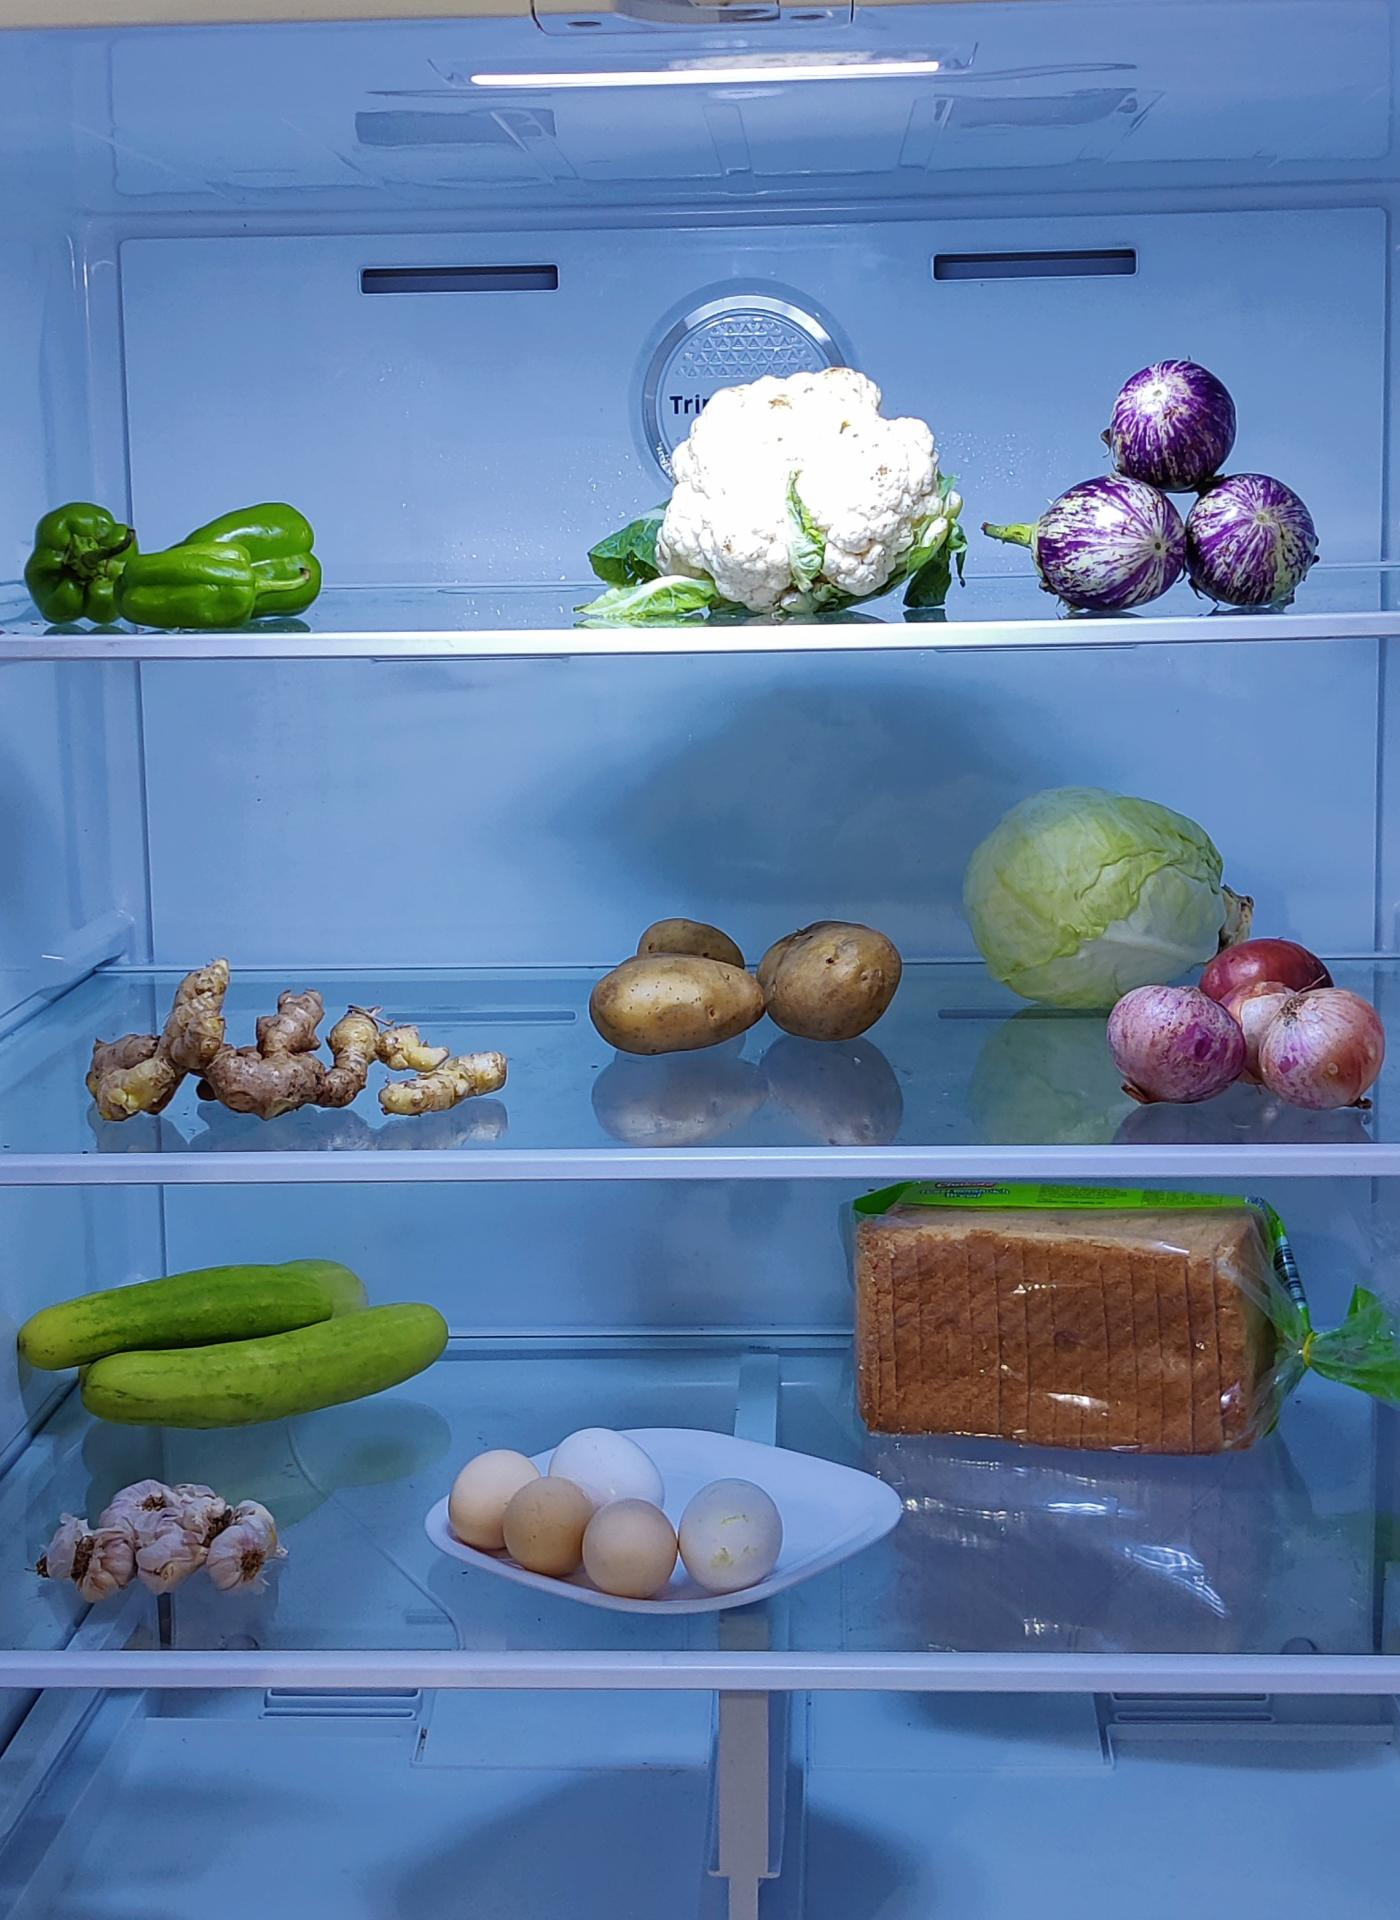bread: (850, 1179, 1308, 1459)
brinjal: (1047, 368, 1302, 590)
cabbage: (962, 786, 1246, 1002)
capsicum: (24, 501, 334, 641)
cauliflower: (653, 362, 953, 613)
cucumber: (30, 1260, 458, 1430)
egg: (458, 1410, 799, 1591)
garlic: (36, 1476, 282, 1601)
ginger: (92, 945, 514, 1121)
onion: (1102, 939, 1385, 1115)
potato: (587, 915, 905, 1060)
